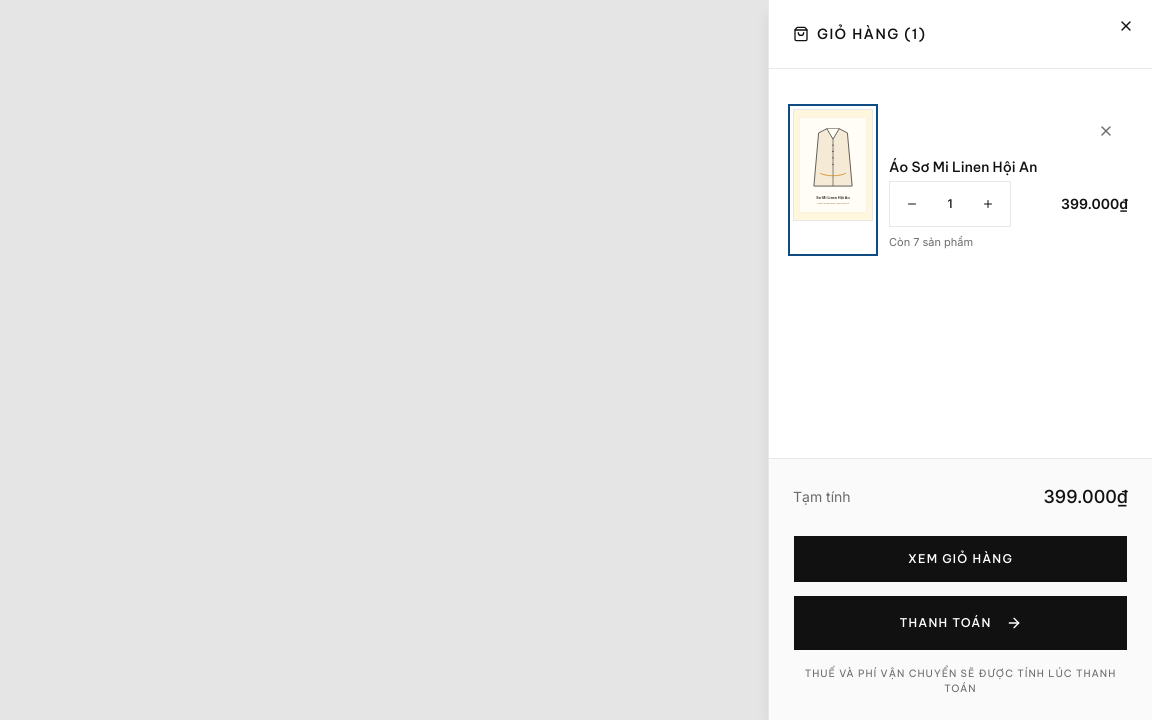
Test case: CartDrawer › increments and removes a cart item through the drawer controls
This screenshot has width=1152, height=720.
Expected: the link "Áo Sơ Mi Linen Hội An" is shown, [889, 158, 1038, 176]
What coordinates should you click on to do the following:
click the button named "Tăng số lượng"
I would click on:
 (988, 204)
Its box is [966, 182, 1010, 226].
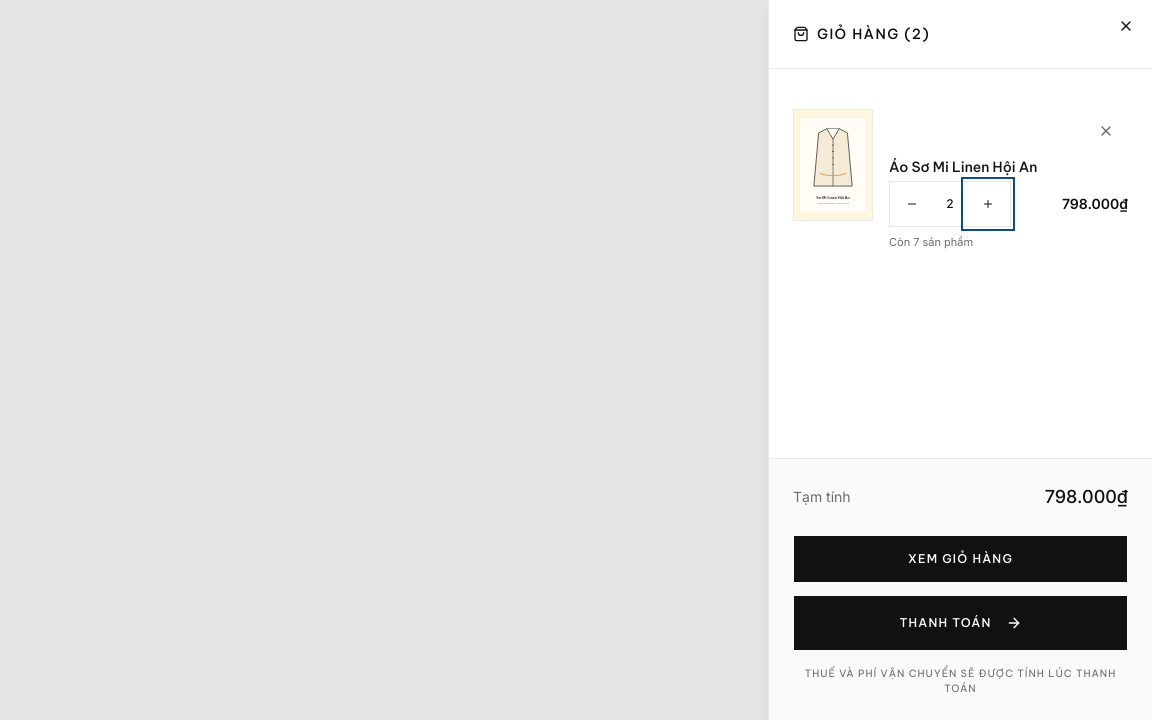
What coordinates should you click on to do the following:
click the button named "Remove item"
I would click on:
 (1106, 131)
Its box is [1084, 109, 1128, 153].
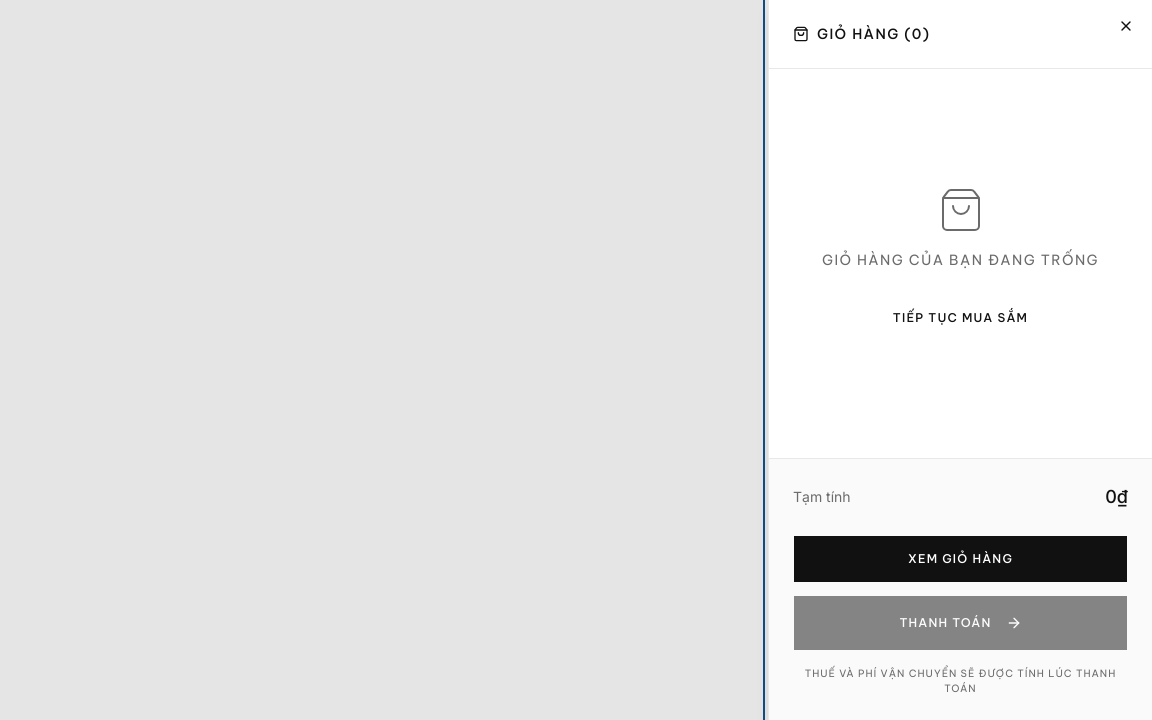
Result: the text "Giỏ hàng của bạn đang trống" is shown at [822, 250, 1099, 270]
